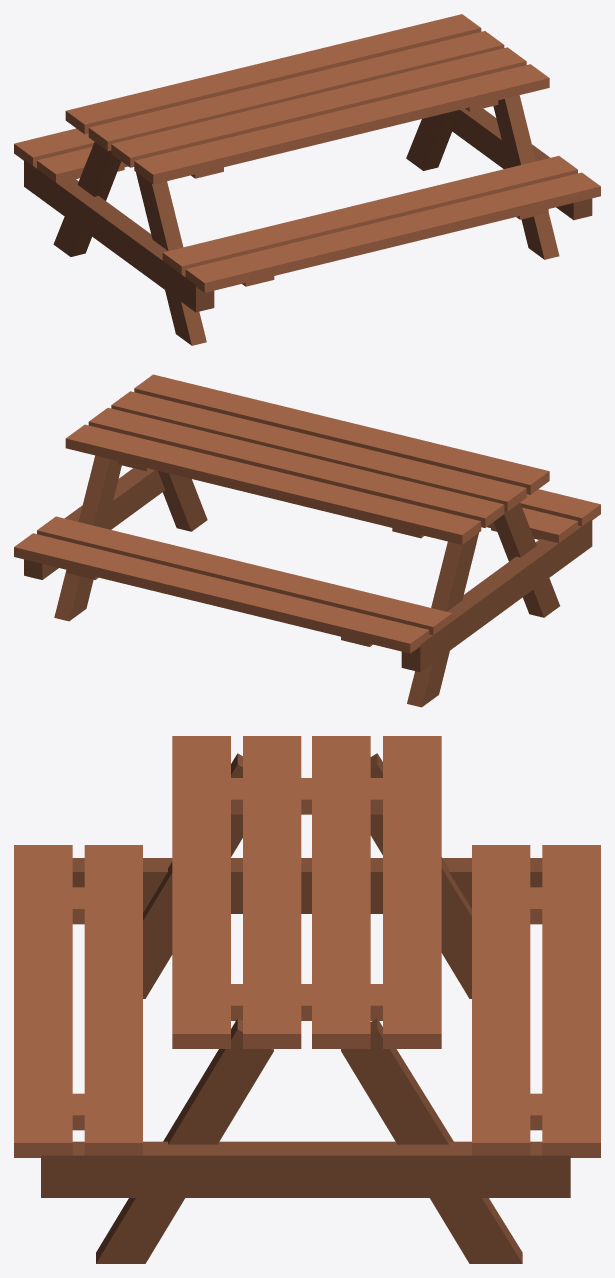
File: Bench_01.fbx
3 renders of one model, top to bottom at view 1: azimuth 30°, elevation 25°; view 2: azimuth 150°, elevation 25°; view 3: azimuth 270°, elevation 25°, orthographic. The views are drawn at different scales.
Parts seen in each view (by area): view 1: Bench_01; view 2: Bench_01; view 3: Bench_01.
Boxes of the visible parts, x1,y1,x2,y2 form: Bench_01: [14, 14, 600, 345]; Bench_01: [14, 374, 600, 707]; Bench_01: [14, 736, 600, 1263].
Size of the model in its own units: 1.59 by 0.5979 by 1.32.
